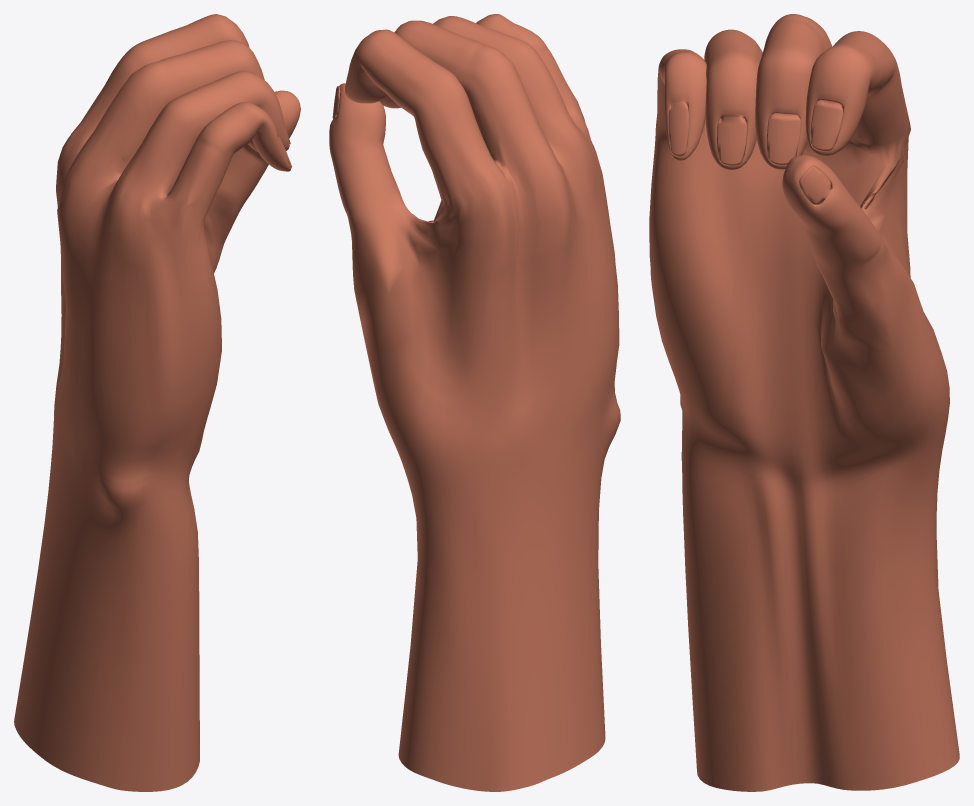
The picture shows the model from 3 angles, left to right: view 1: azimuth 30°, elevation 25°; view 2: azimuth 150°, elevation 25°; view 3: azimuth 270°, elevation 25°; orthographic projection. The views are drawn at different scales.
Visible parts, largest first — view 1: Plane.004; view 2: Plane.004; view 3: Plane.004.
Boxes of the visible parts, x1,y1,x2,y2 form: Plane.004: [14, 14, 300, 791]; Plane.004: [329, 14, 620, 791]; Plane.004: [649, 14, 959, 791].
Size of the model in its own units: 1.61 by 4.21 by 1.51.
